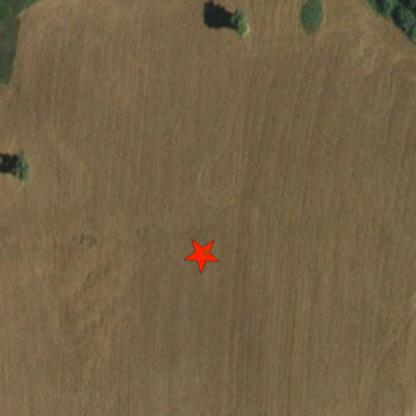K: (201, 248, 212, 262)
star: (182, 235, 220, 275)
